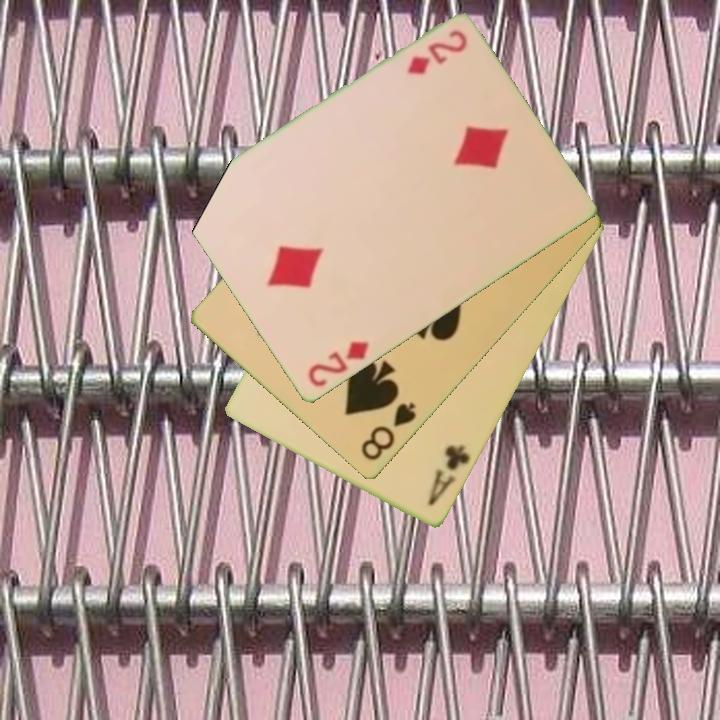2d: (304, 338, 372, 391), (403, 27, 471, 79)
8s: (357, 399, 419, 464)
Ac: (424, 441, 474, 510)
